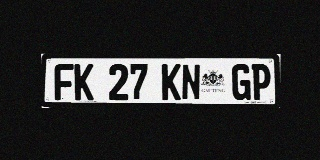2: (109, 64, 128, 100)
7: (129, 64, 148, 100)
F: (54, 64, 74, 100)
G: (232, 64, 251, 100)
K: (74, 64, 94, 100), (162, 64, 181, 100)
N: (181, 64, 201, 100)
P: (251, 64, 271, 100)
